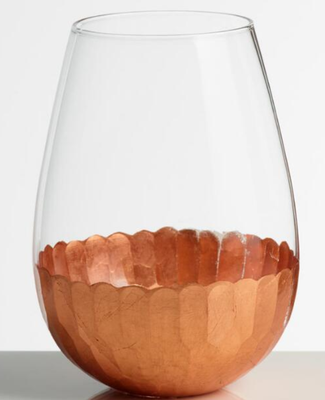taco: (33, 226, 301, 398)
